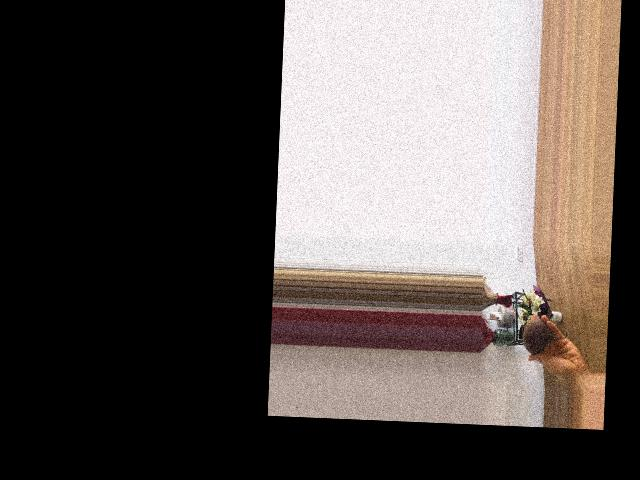beet: (518, 317, 568, 354)
